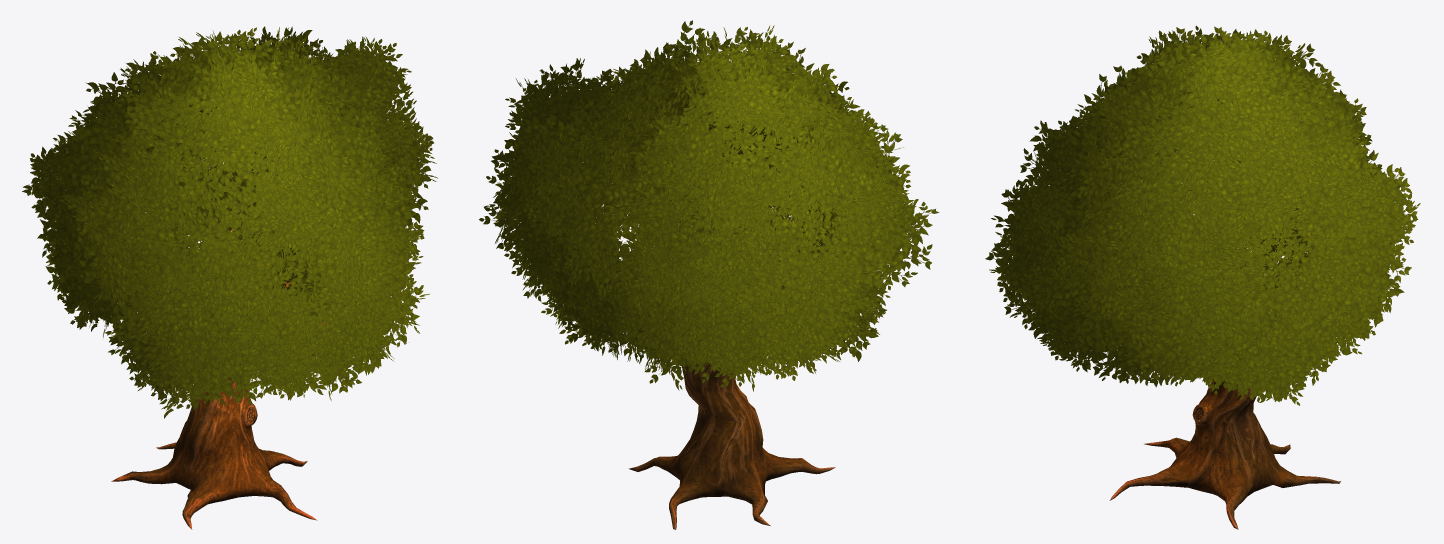
Rendered from SM_Tree_Large_01.glb.
3 views of the same model, side by side, from view 1: azimuth 30°, elevation 25°; view 2: azimuth 150°, elevation 25°; view 3: azimuth 270°, elevation 25° (orthographic).
Visible parts, largest first — view 1: SM_Tree_Large_01; view 2: SM_Tree_Large_01; view 3: SM_Tree_Large_01.
Boxes of the visible parts, left/top/right/bottom form: SM_Tree_Large_01: left=22, top=26, right=437, bottom=529; SM_Tree_Large_01: left=479, top=20, right=939, bottom=529; SM_Tree_Large_01: left=985, top=25, right=1420, bottom=529.
Size of the model in its own units: 21.41 by 23.75 by 20.97.
Materials: 2 (2 with a texture image).
